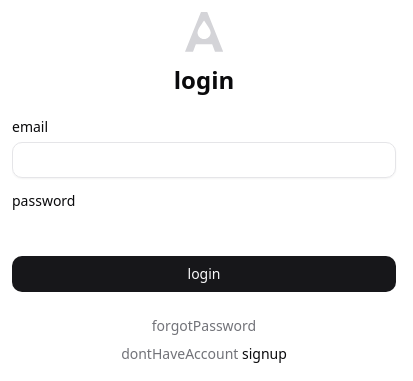
it: LoginForm › switches to signup mode
The image size is (413, 381).
Click the button "signup".
click(264, 354)  # box 242,344 -> 287,364
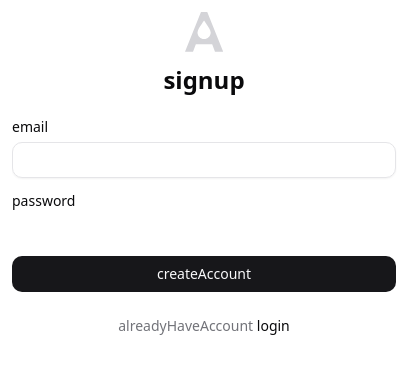
Result: the heading "signup" is shown at 163,64 -> 245,96
Result: the button "createAccount" is shown at 12,256 -> 396,292
